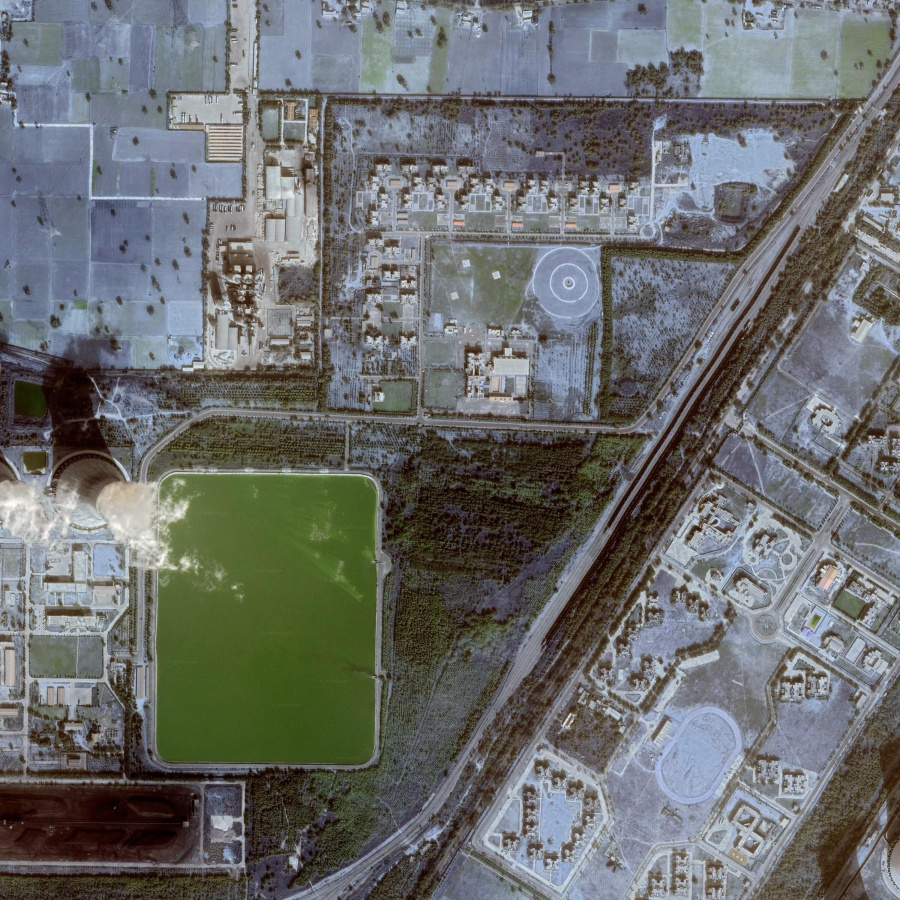PowerPlant: (3, 361, 370, 876)
